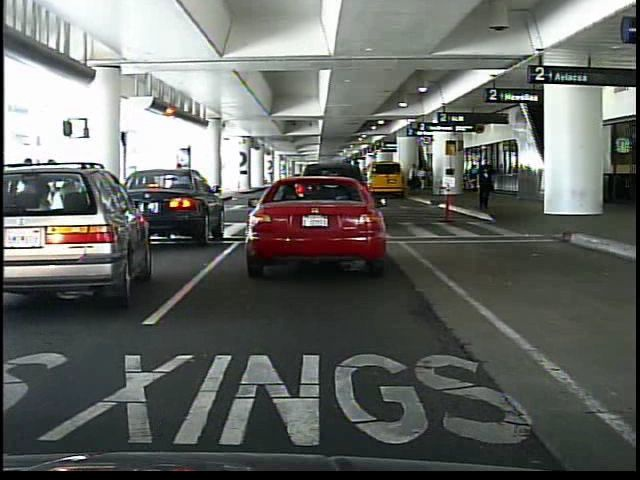person: (165, 159, 190, 224), (342, 158, 362, 217), (477, 158, 495, 212), (407, 160, 420, 196)
